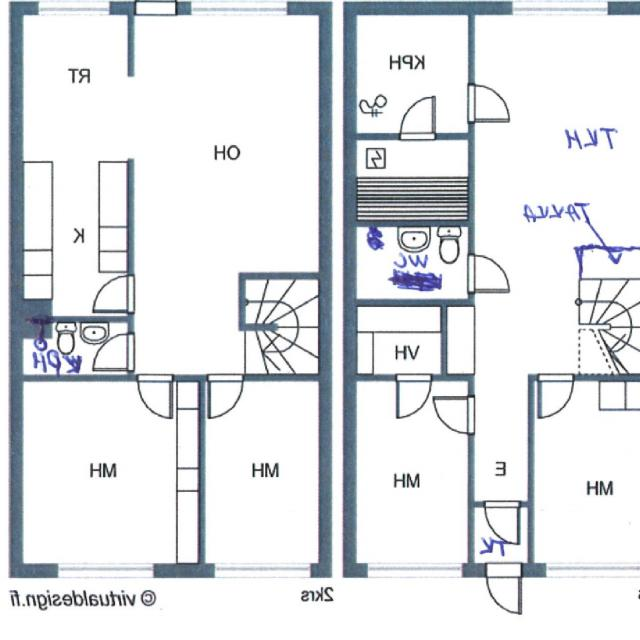door: (486, 563, 522, 615), (468, 82, 512, 122), (468, 252, 512, 291), (484, 501, 520, 546), (434, 396, 476, 433), (94, 274, 136, 311), (397, 374, 431, 419), (540, 374, 574, 419), (401, 95, 435, 140), (139, 373, 173, 418), (210, 373, 243, 417), (96, 334, 136, 369), (136, 0, 181, 17)
